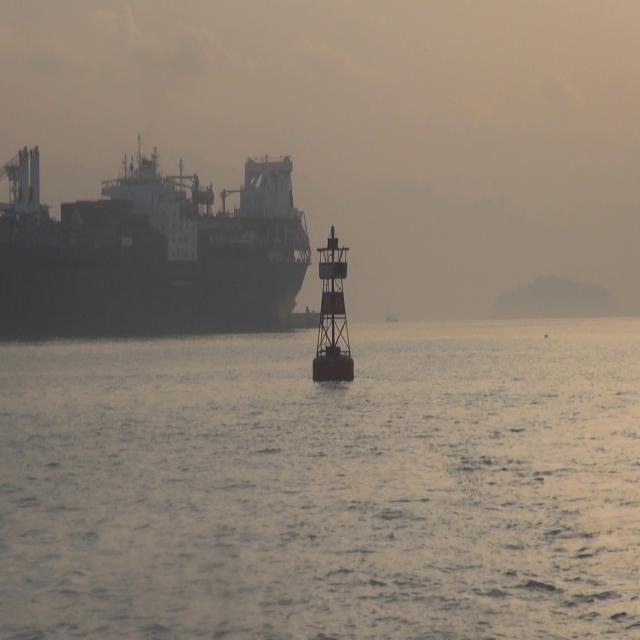ship: (0, 137, 312, 336)
